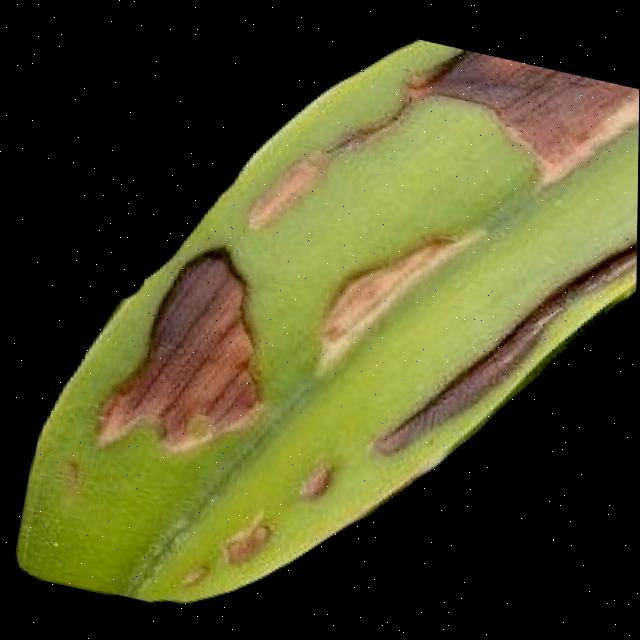mite: (15, 208, 387, 634), (179, 421, 348, 617), (179, 491, 287, 604), (28, 436, 108, 565), (224, 504, 283, 569), (49, 438, 103, 502), (300, 448, 342, 502), (621, 243, 638, 343), (182, 551, 219, 589), (59, 450, 93, 490), (42, 524, 75, 559), (48, 530, 69, 552)
spots: (8, 6, 639, 640)
sunburn: (87, 219, 293, 479)
